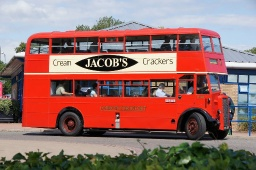bus: (20, 24, 234, 141)
